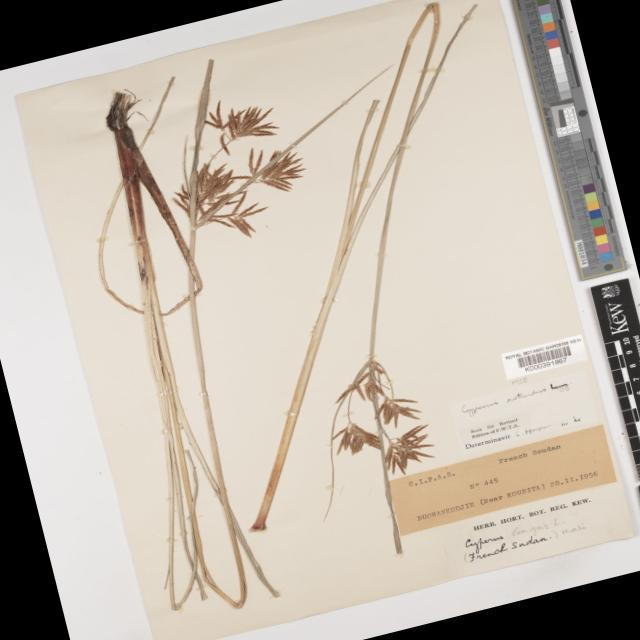cyperus: (152, 85, 316, 242), (308, 346, 449, 495)
